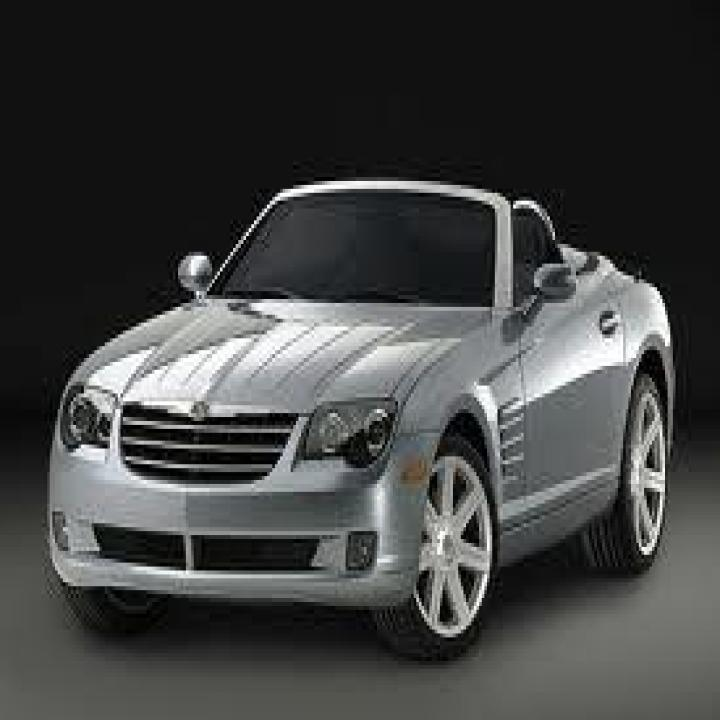car: (44, 173, 676, 661)
